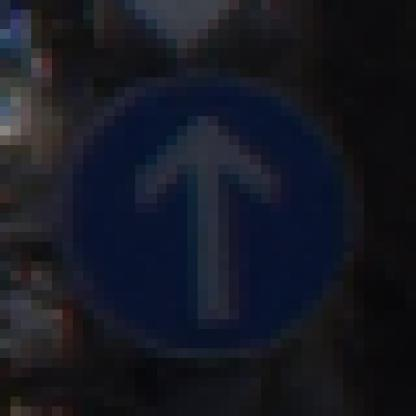AheadOnly: (53, 59, 365, 369)
